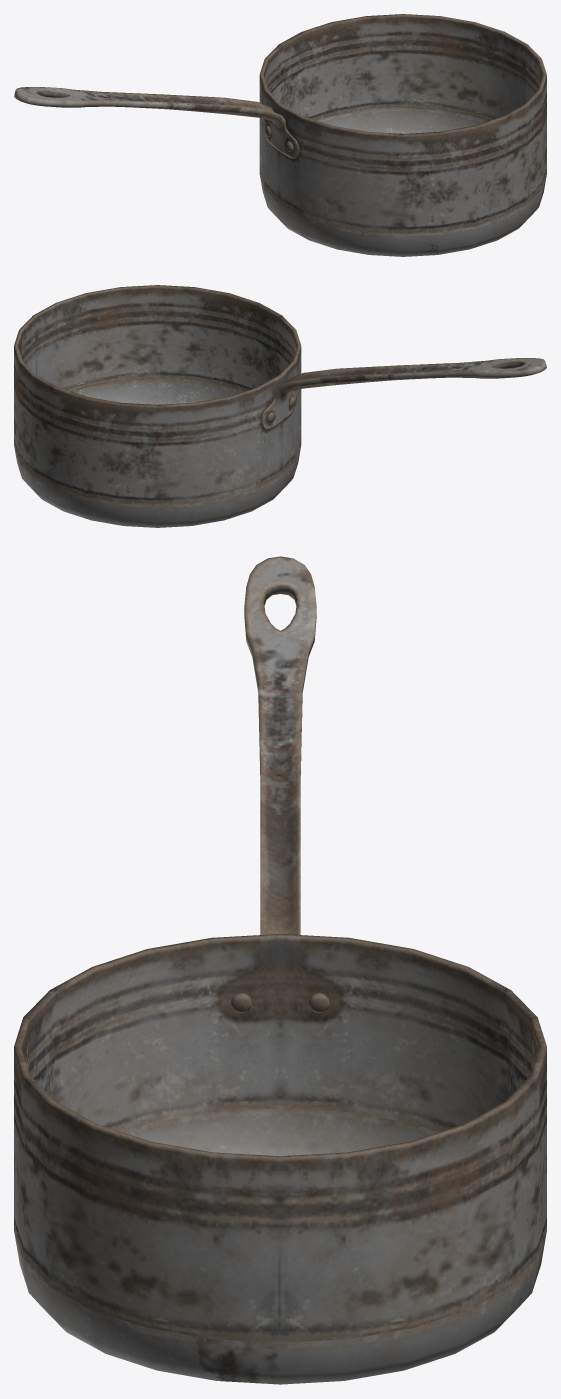
Rendered from SM_Kitchenware01_4_LOD0.glb.
3 views of the same model, one above another, from view 1: azimuth 30°, elevation 25°; view 2: azimuth 150°, elevation 25°; view 3: azimuth 270°, elevation 25° (orthographic). The views are drawn at different scales.
Parts seen in each view (by area): view 1: SM_Kitchenware01_4_LOD0; view 2: SM_Kitchenware01_4_LOD0; view 3: SM_Kitchenware01_4_LOD0.
Part boxes in pixels (bbox=[...]): SM_Kitchenware01_4_LOD0: bbox=[14, 14, 546, 256]; SM_Kitchenware01_4_LOD0: bbox=[14, 285, 546, 527]; SM_Kitchenware01_4_LOD0: bbox=[14, 556, 546, 1384].
Size of the model in its own units: 0.6921 by 0.2683 by 0.3366.
1 material, 1 textured.
